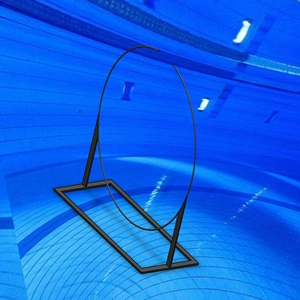circle: (53, 44, 201, 275)
